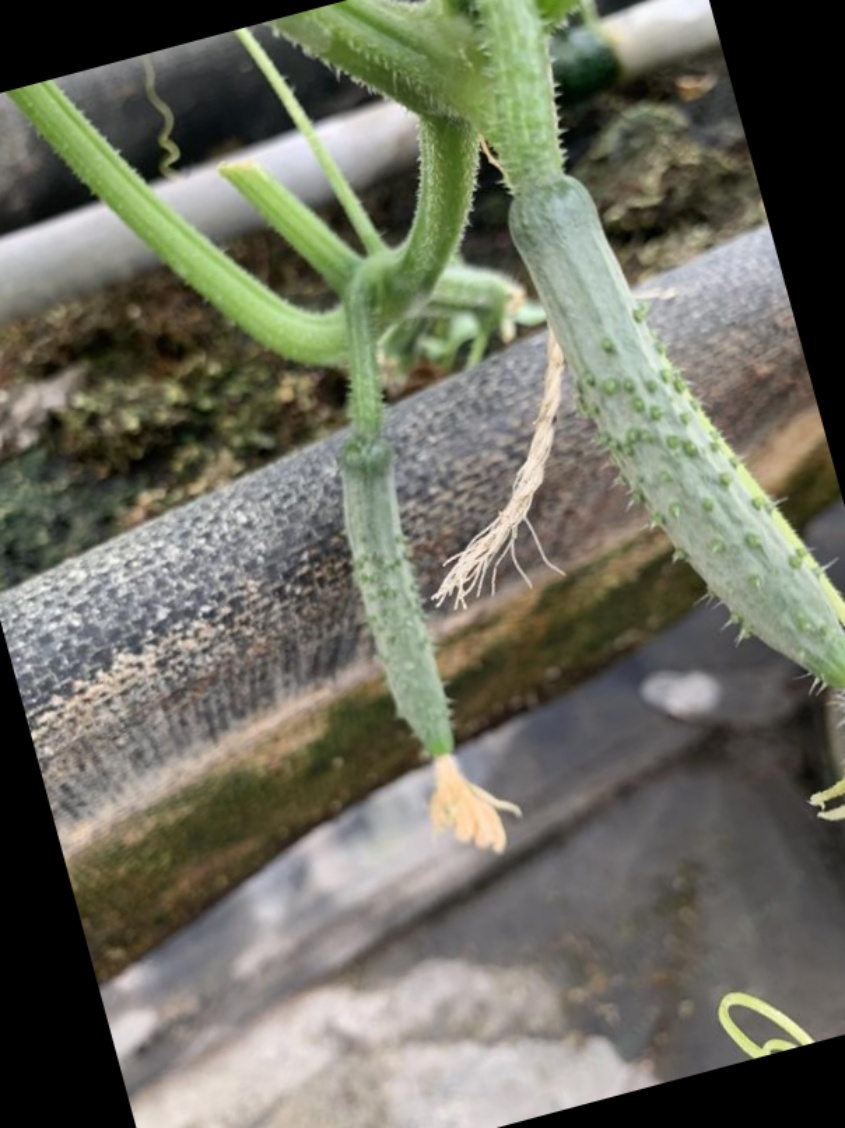bear: (320, 436, 507, 833)
